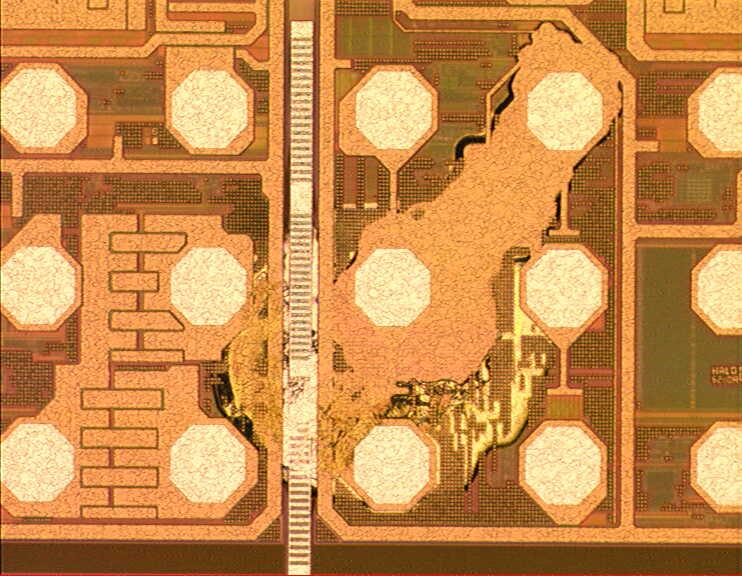BLOCK ETCH: (204, 13, 641, 514)
